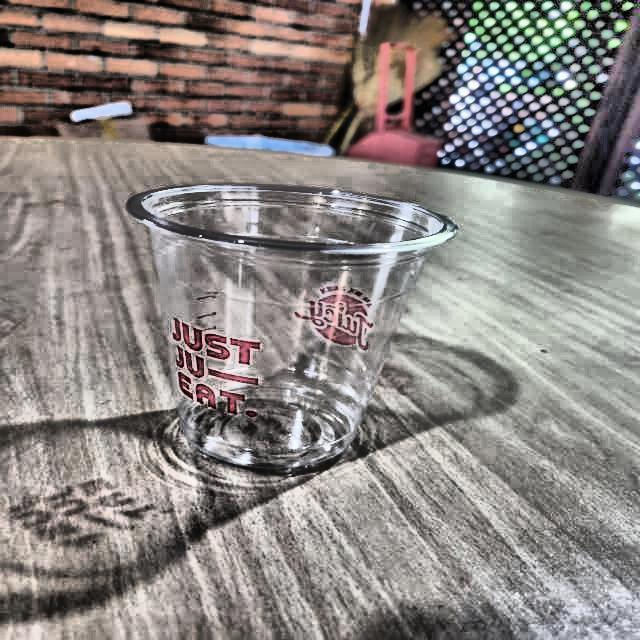plastic cup: (114, 173, 460, 488)
